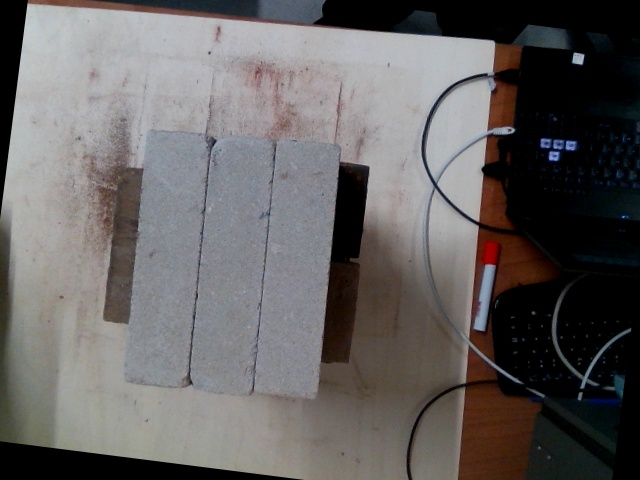brick-side: (191, 133, 273, 390), (125, 129, 207, 386), (255, 142, 337, 398)
